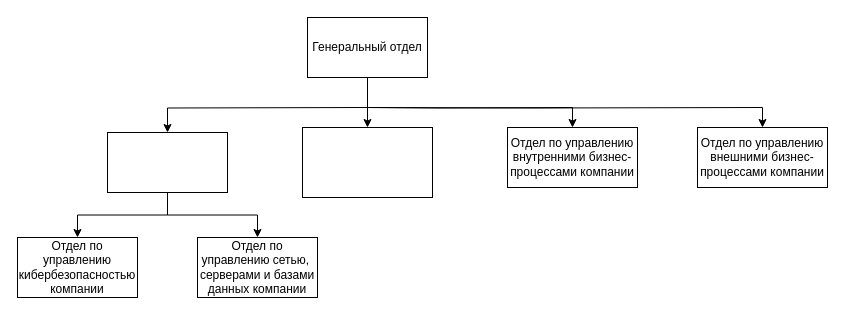
This 845x315 diagram has some shape labels left out. The shapes that lost their labels are listed below. From the top down, each one's box as (x1, y1, x2, y2) in pixels, then its label:
(106, 132, 228, 192): IT-отдел
(302, 126, 432, 198): Отдел по управлению производством алкогольной продукции
